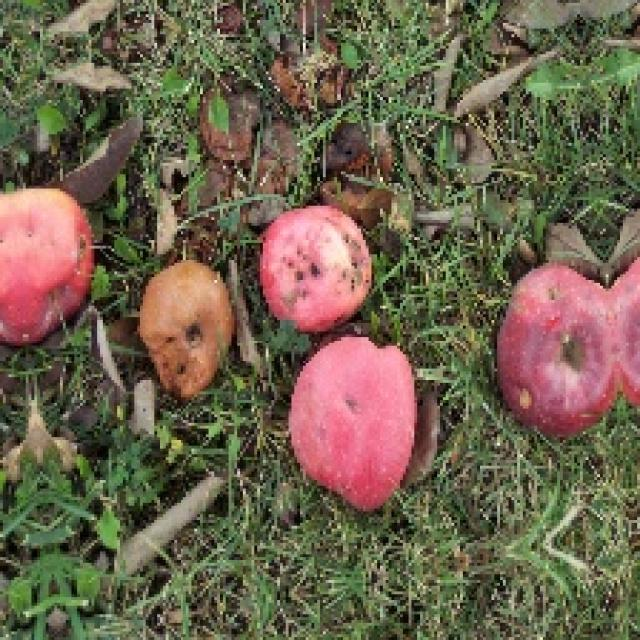rotten_apple: (0, 193, 93, 343), (260, 209, 374, 324), (142, 263, 233, 395)
